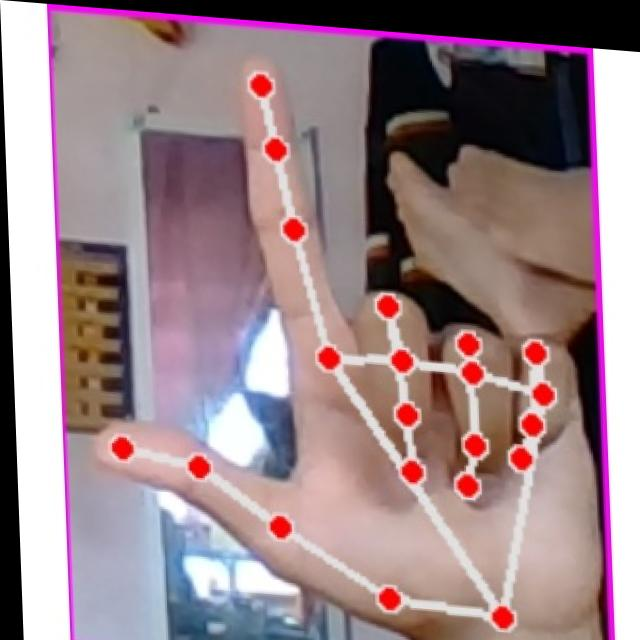L: (71, 32, 590, 633)
